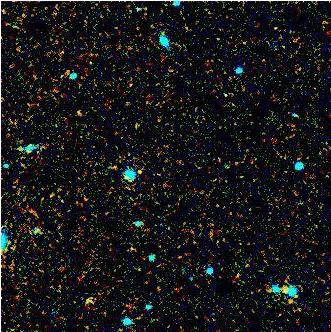star: (123, 155, 153, 185)
